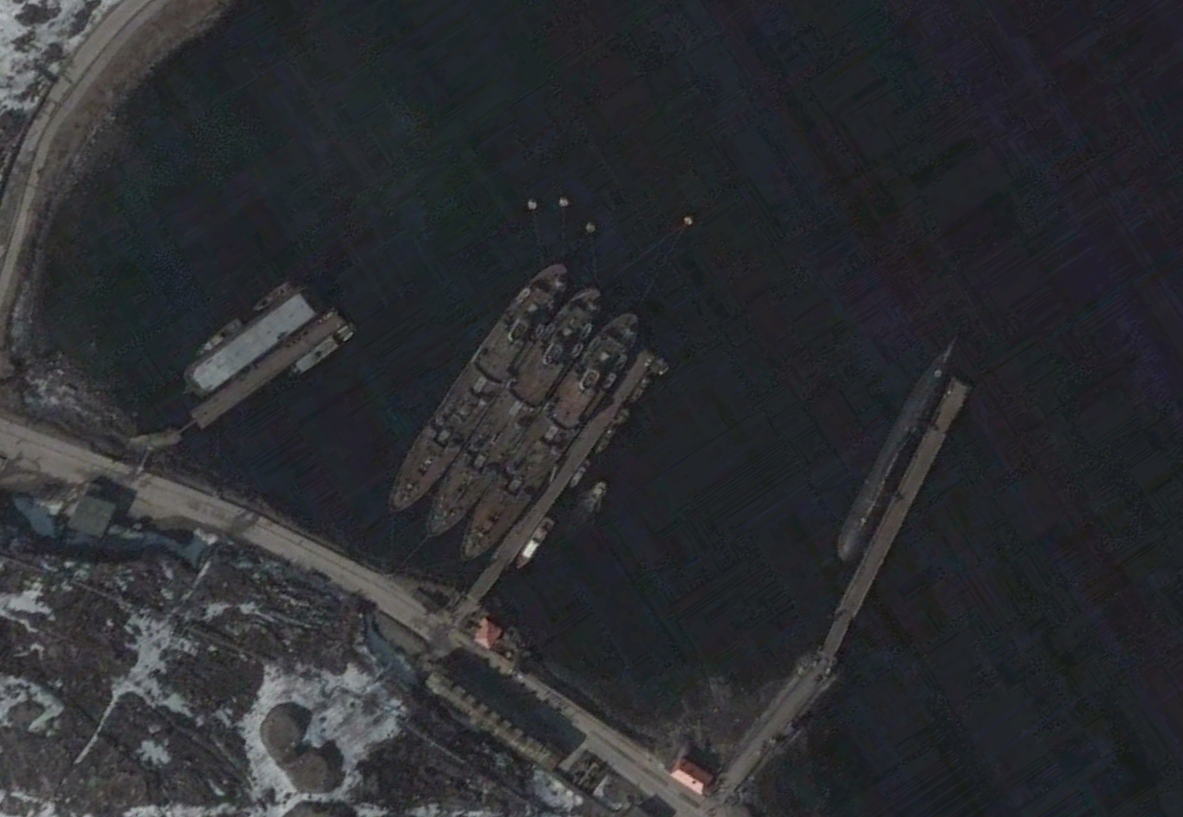merchant ship: (384, 261, 573, 516), (419, 286, 600, 539), (458, 311, 641, 559), (286, 326, 355, 380), (511, 512, 554, 570), (192, 321, 242, 359), (250, 285, 288, 316)
submarine: (837, 320, 971, 562)
